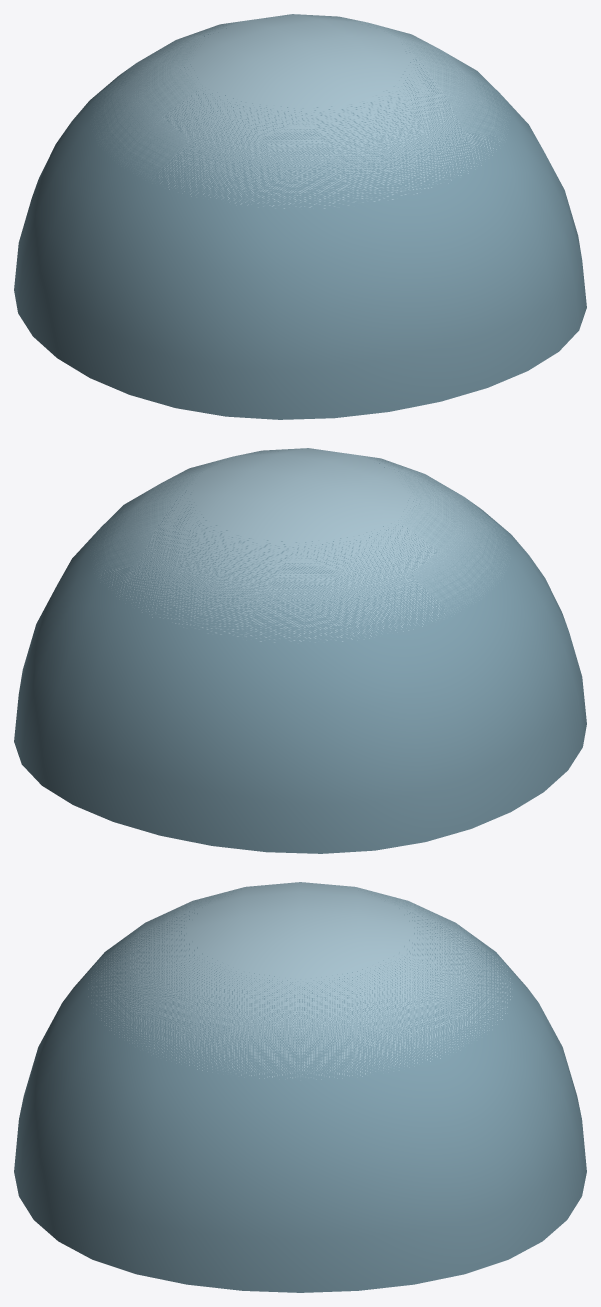
The model's file is skybox.fbx.
3 renders of one model, top to bottom at view 1: azimuth 30°, elevation 25°; view 2: azimuth 150°, elevation 25°; view 3: azimuth 270°, elevation 25°, orthographic.
Parts seen in each view (by area): view 1: sky box day time; view 2: sky box day time; view 3: sky box day time.
Boxes of the visible parts, bbox=[...] form: sky box day time: bbox=[14, 14, 586, 419]; sky box day time: bbox=[14, 448, 586, 853]; sky box day time: bbox=[14, 882, 586, 1292].
Size of the model in its own units: 15146 by 7573 by 15146.
